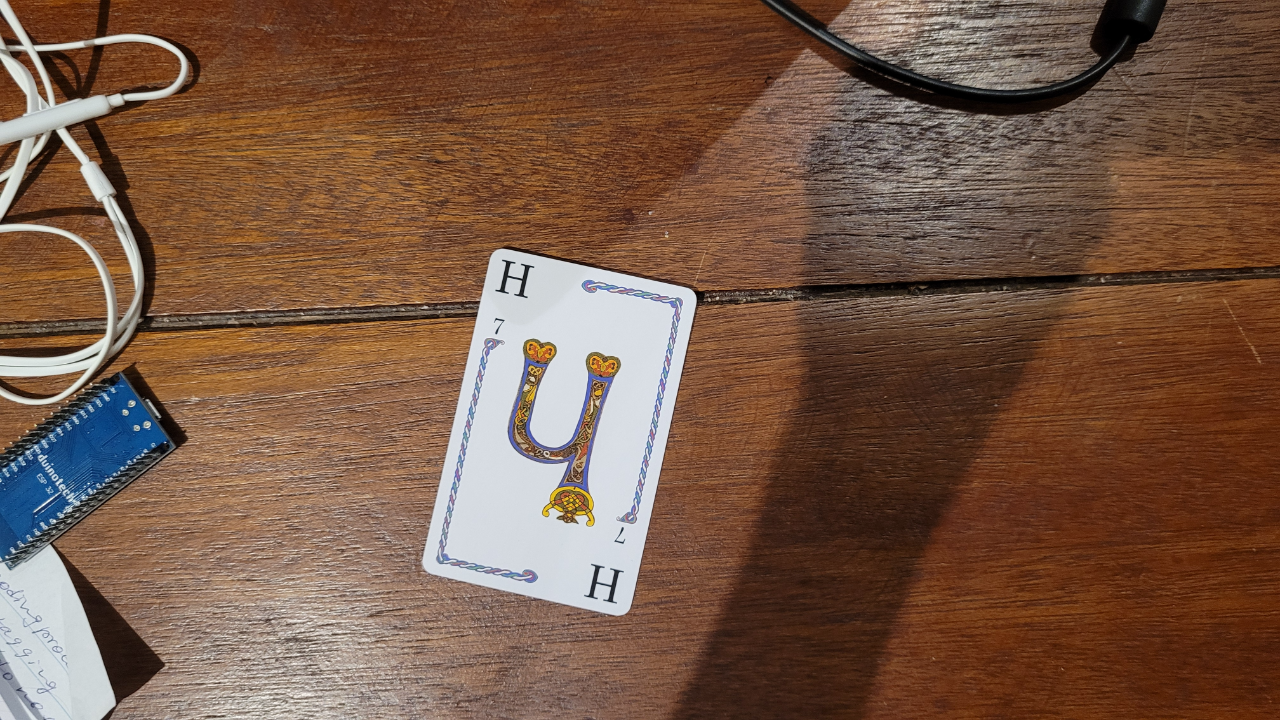quiddler_card: (418, 242, 700, 624)
